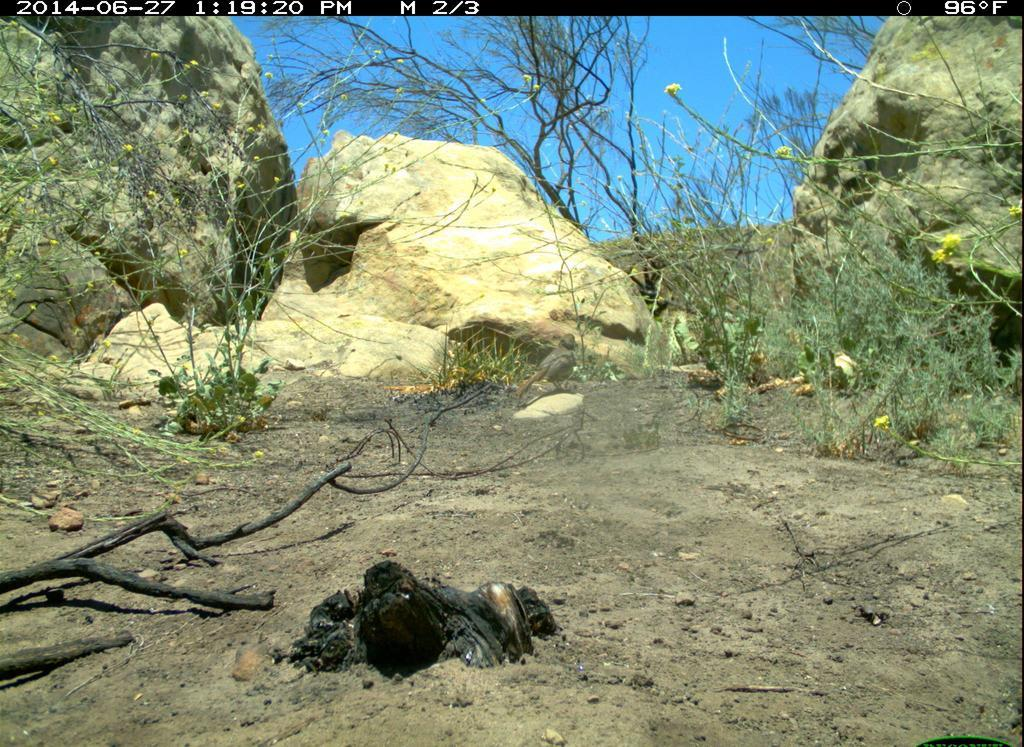bird: (512, 317, 594, 425)
